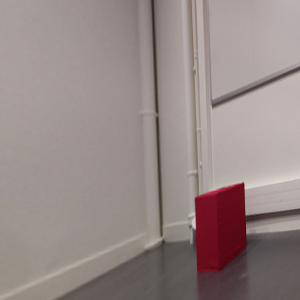medium: (192, 181, 250, 273)
